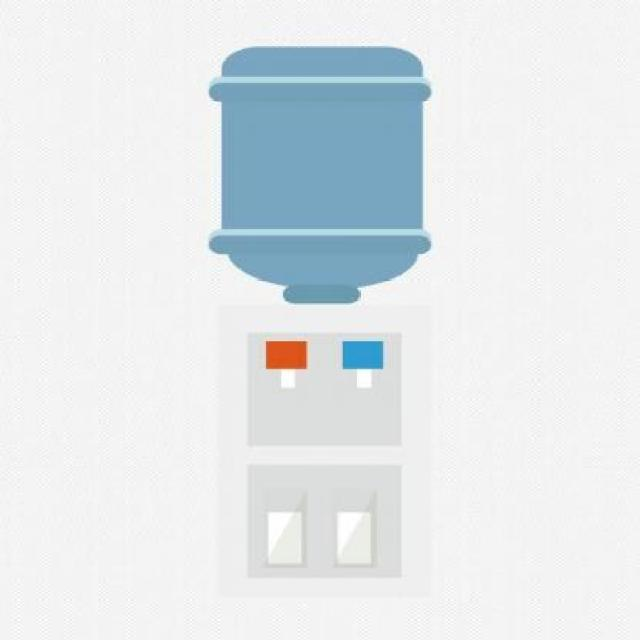cooler: (206, 41, 434, 597)
